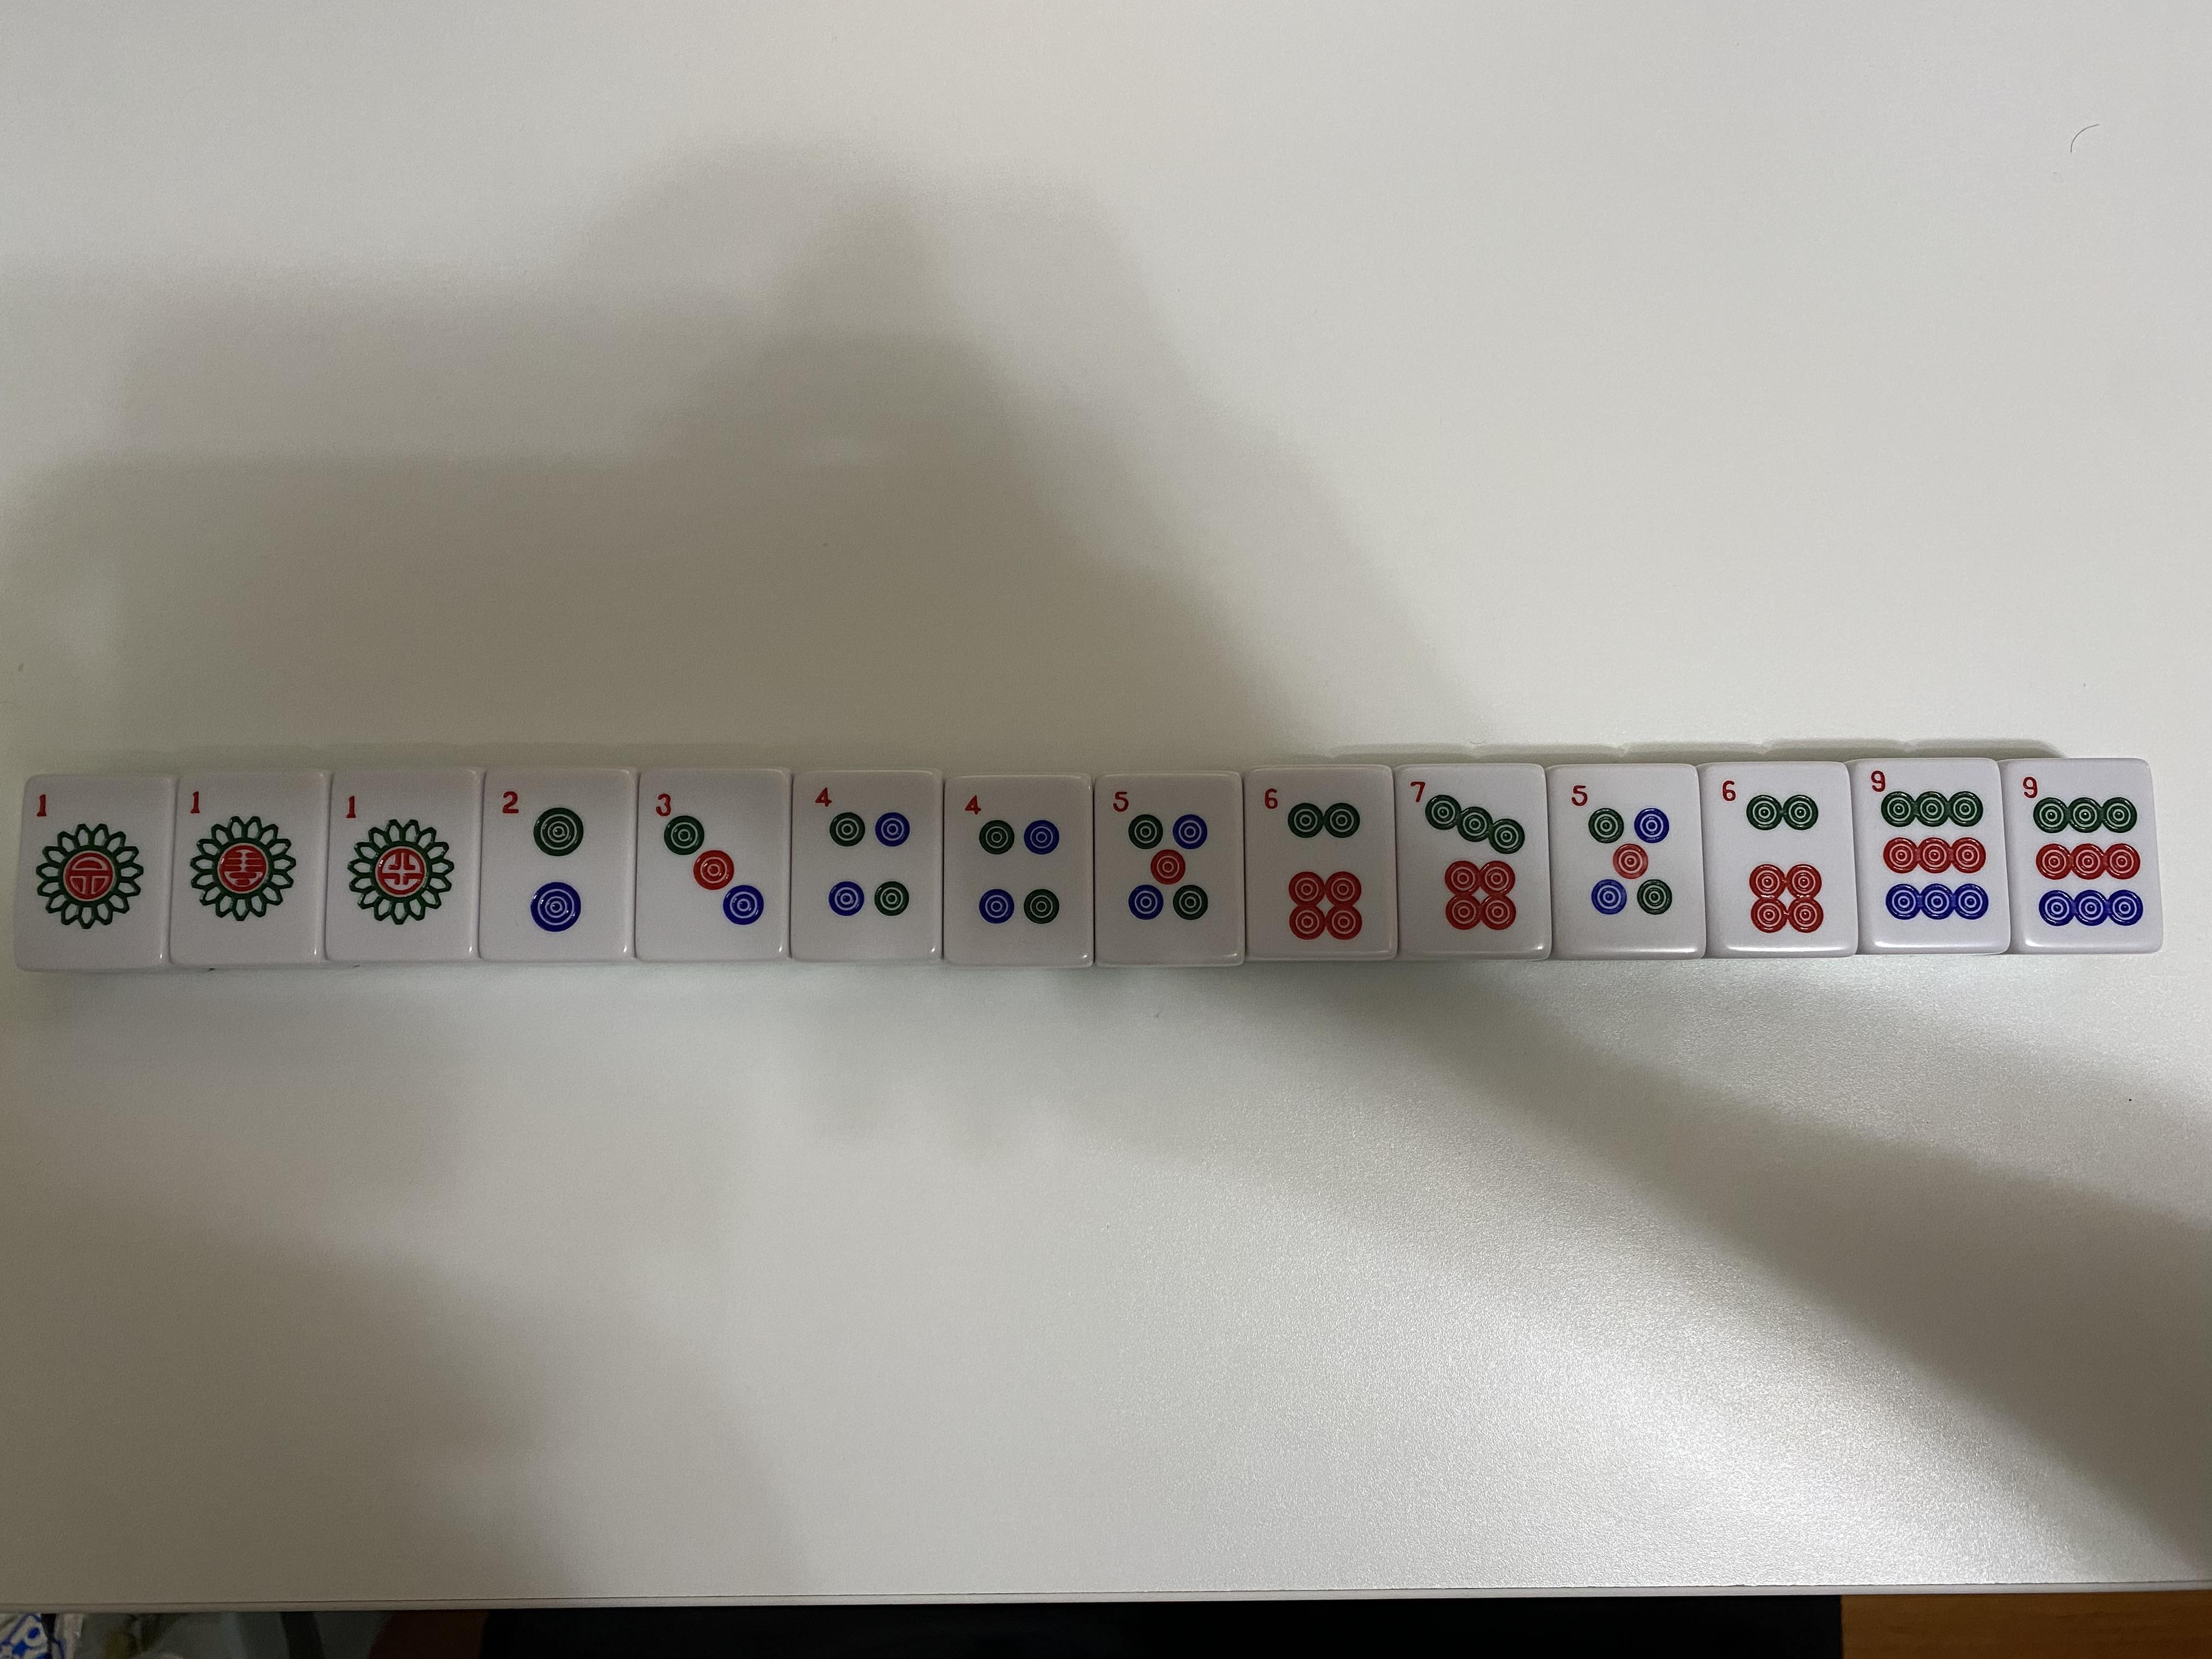circle-five: (1562, 772, 1698, 943), (1101, 779, 1237, 948)
circle-four: (798, 775, 935, 945), (951, 782, 1087, 953)
circle-nine: (2013, 765, 2151, 936), (1865, 763, 2001, 934)
circle-one: (21, 775, 158, 945), (338, 775, 474, 945), (179, 775, 315, 945)
circle-seven: (1404, 772, 1540, 941)
circle-six: (1714, 769, 1850, 939), (1252, 777, 1388, 948)
circle-three: (646, 775, 782, 946)
circle-two: (489, 774, 625, 943)
